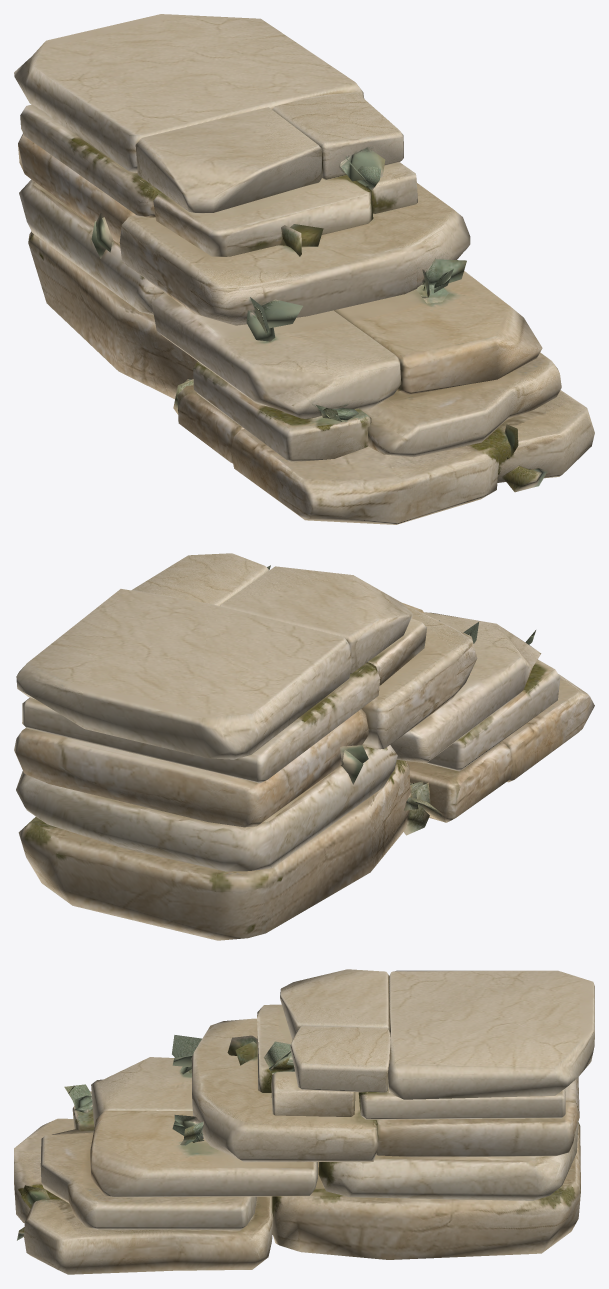
The model's file is nature-white-limestone-outcrop.glb.
The picture shows the model from 3 angles, top to bottom: view 1: azimuth 30°, elevation 25°; view 2: azimuth 150°, elevation 25°; view 3: azimuth 270°, elevation 25°; orthographic projection. The views are drawn at different scales.
Bounding box in the file's own units: 0.5009 × 0.3838 × 1.
1 material, 1 textured.
